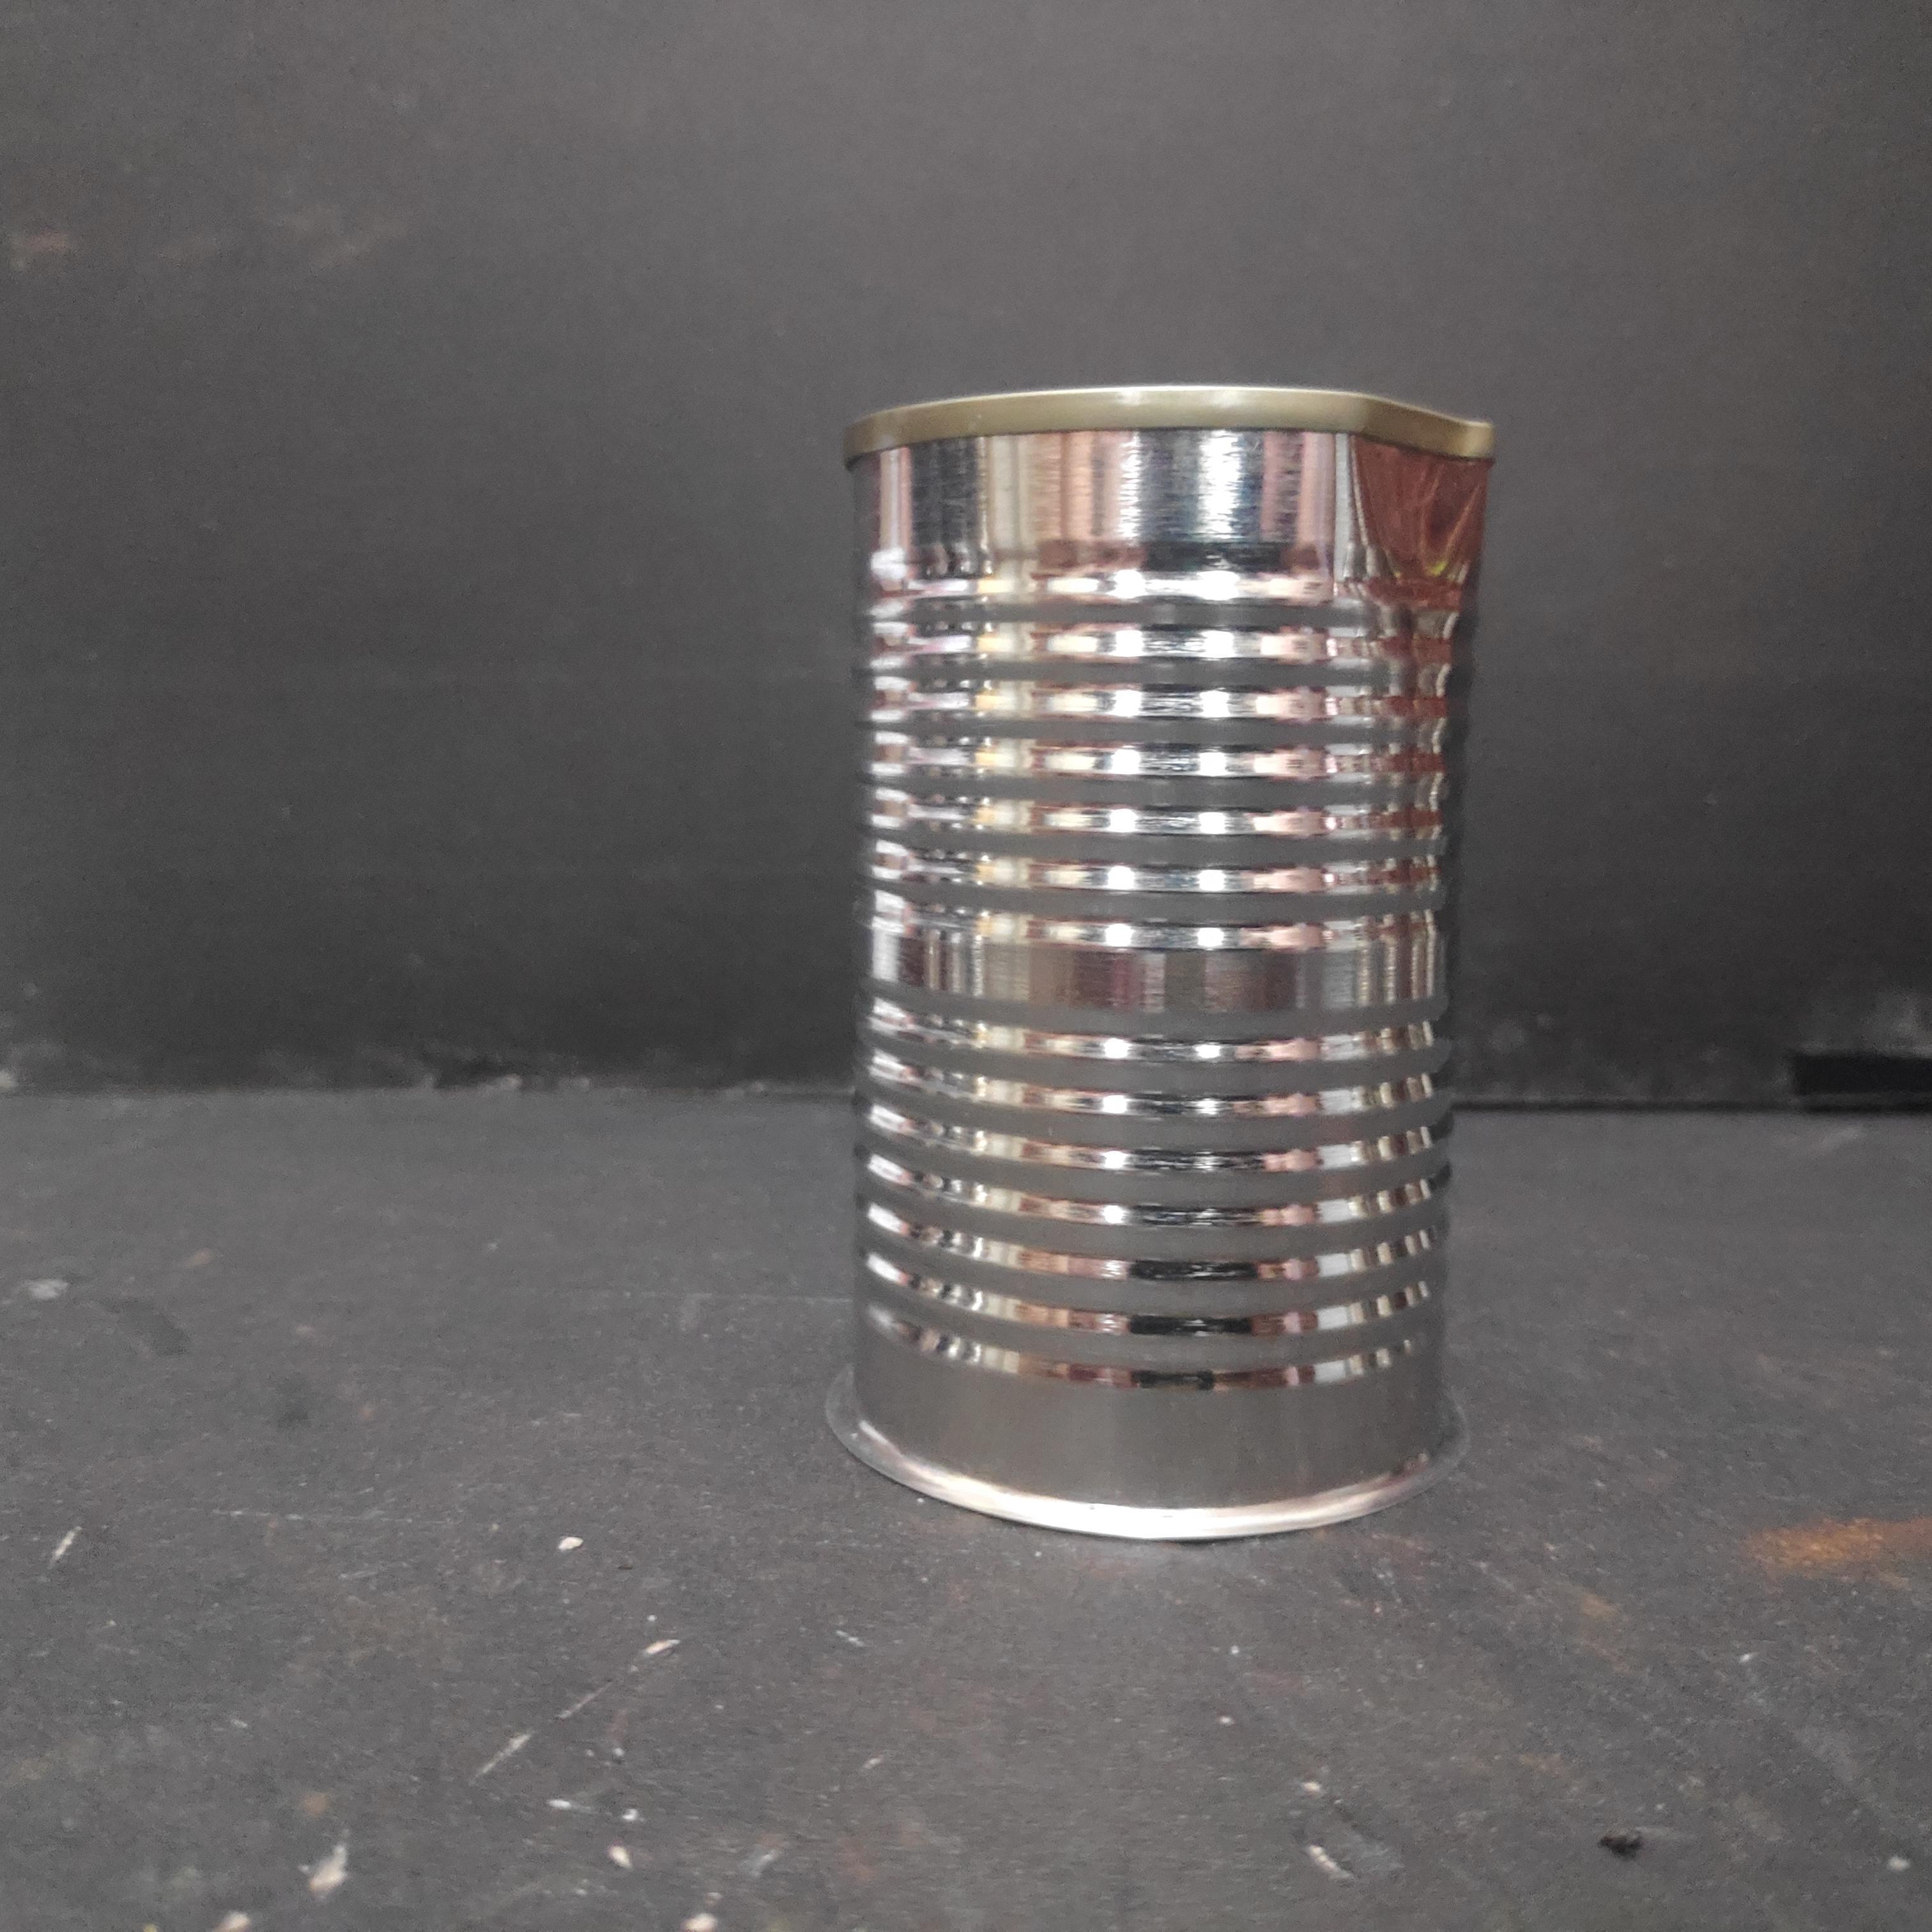Dented: (837, 364, 1507, 1562)
